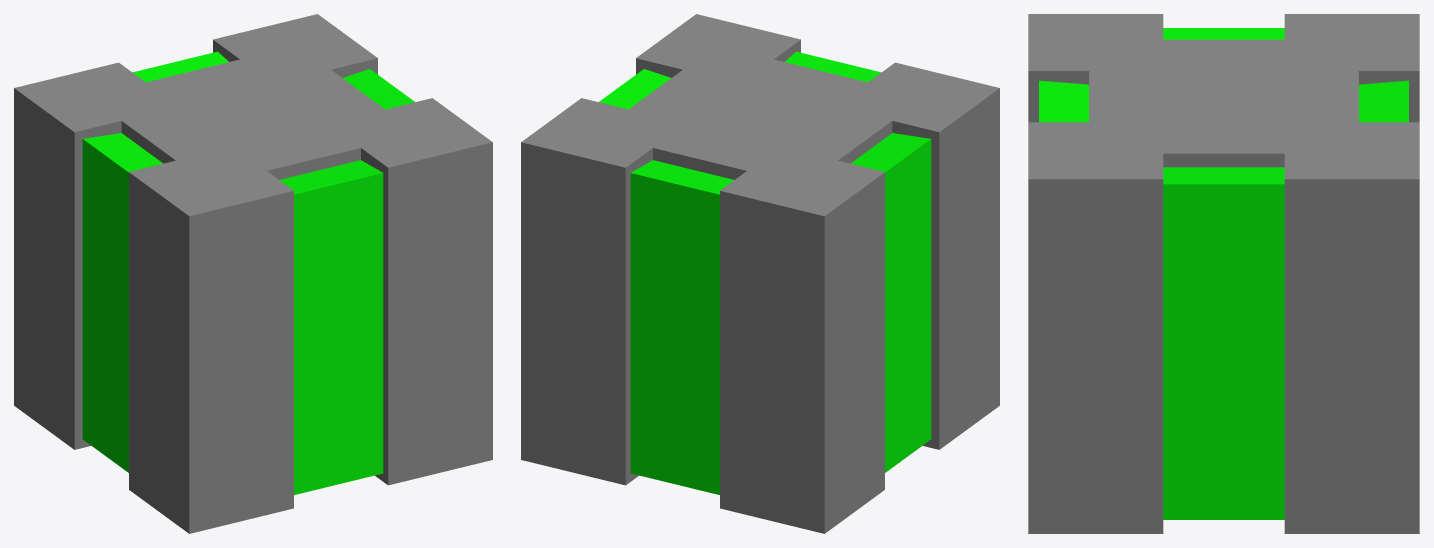
File: VOAL_Box.fbx
3 renders of one model, left to right at view 1: azimuth 30°, elevation 25°; view 2: azimuth 150°, elevation 25°; view 3: azimuth 270°, elevation 25°, orthographic. The views are drawn at different scales.
Parts seen in each view (by area): view 1: VOAL_Box; view 2: VOAL_Box; view 3: VOAL_Box.
Boxes of the visible parts, bbox=[...] form: VOAL_Box: bbox=[14, 14, 492, 533]; VOAL_Box: bbox=[521, 14, 999, 533]; VOAL_Box: bbox=[1028, 14, 1419, 533].
Size of the model in its own units: 200 by 200 by 200.
